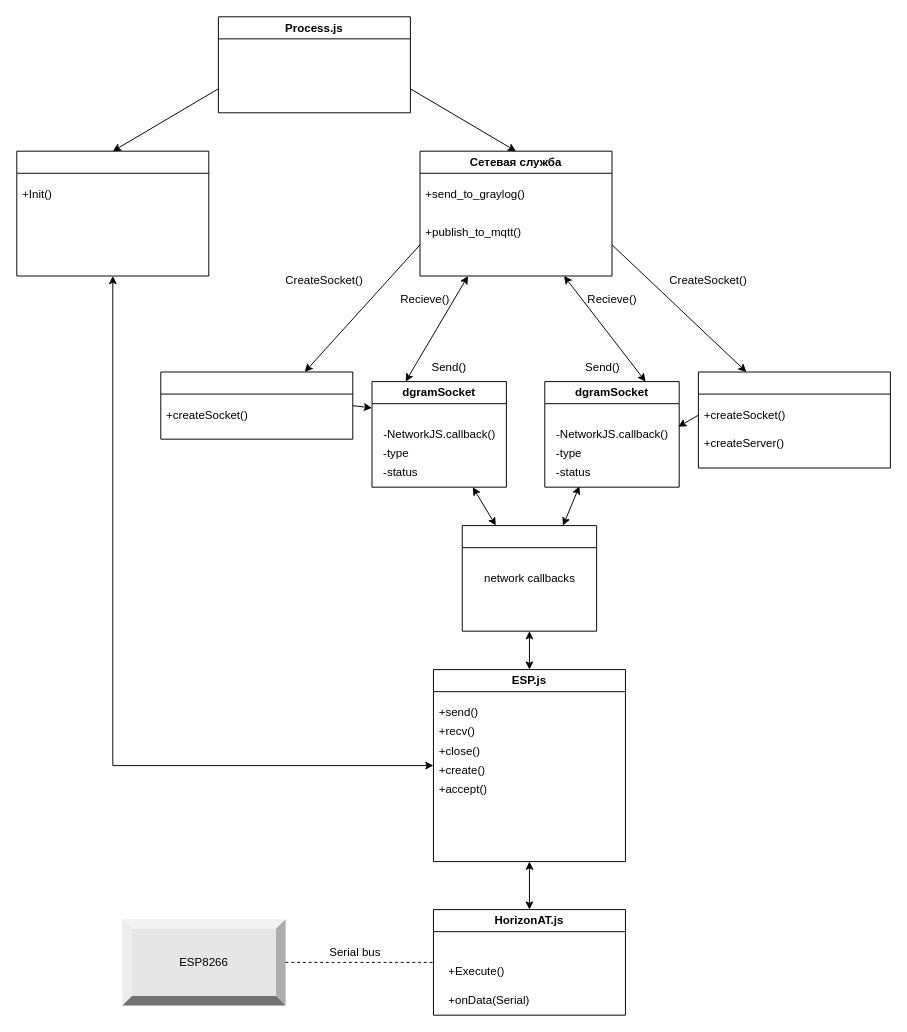
Some shapes in this 907 by 1032 pixel diagram are drawn without their labels. Here are the shapes that lost their labels. From the top down, the box of each, then its label:
(16, 150, 209, 276): Network.js
(160, 371, 353, 439): dgram
(697, 371, 890, 468): net
(461, 525, 597, 631): NetworkJS
